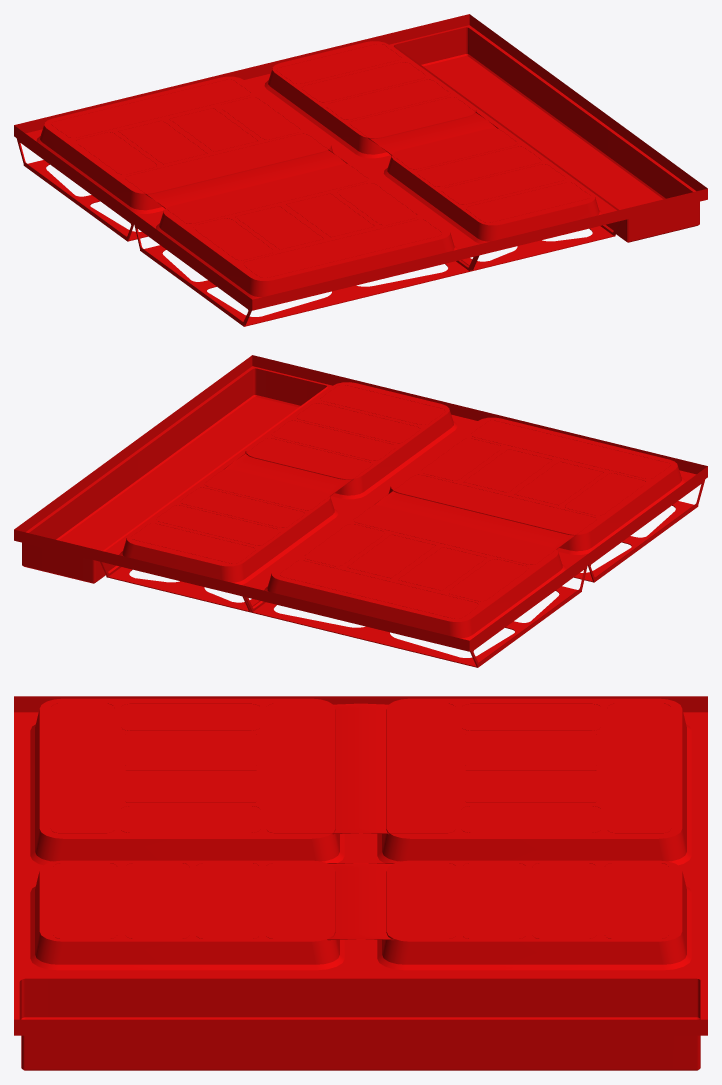
File: Ceiling_6.fbx
The picture shows the model from 3 angles, top to bottom: view 1: azimuth 30°, elevation 25°; view 2: azimuth 150°, elevation 25°; view 3: azimuth 270°, elevation 25°; orthographic projection. The views are drawn at different scales.
Visible parts, largest first — view 1: L2:polySurface1827; view 2: L2:polySurface1827; view 3: L2:polySurface1827.
Part boxes in pixels (x1,y1,x2,y2): L2:polySurface1827: (14, 14, 707, 326); L2:polySurface1827: (14, 355, 707, 667); L2:polySurface1827: (14, 696, 707, 1070).
Bounding box in the file's own units: 565 × 51.92 × 512.
